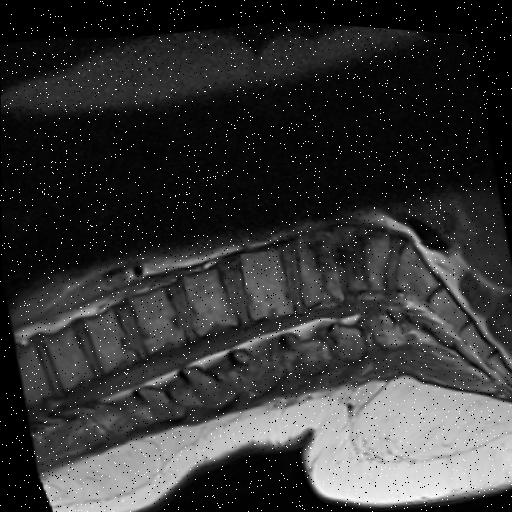L1: (129, 285, 184, 349)
L2: (184, 266, 236, 329)
L3: (240, 244, 293, 312)
L4: (296, 225, 343, 301)
L5: (337, 220, 390, 286)
S1: (395, 236, 439, 294)
